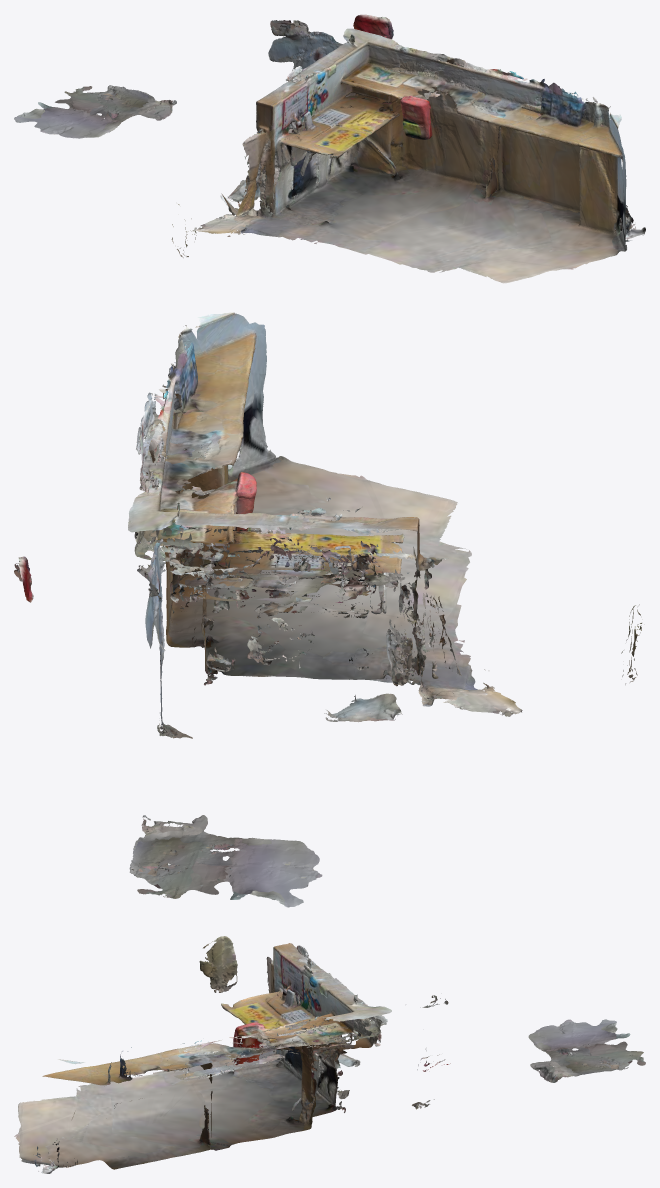
Rendered from asoboon_512.glb.
3 renders of one model, top to bottom at view 1: azimuth 30°, elevation 25°; view 2: azimuth 150°, elevation 25°; view 3: azimuth 270°, elevation 25°, orthographic. The views are drawn at different scales.
Visible parts, largest first — view 1: mesh; view 2: mesh; view 3: mesh.
Boxes of the visible parts, left/top/right/bottom form: mesh: left=14, top=14, right=645, bottom=283; mesh: left=14, top=312, right=641, bottom=907; mesh: left=14, top=936, right=645, bottom=1173.
Bounding box in the file's own units: 3.98 × 1.37 × 5.77.
Materials: 1 (1 with a texture image).
